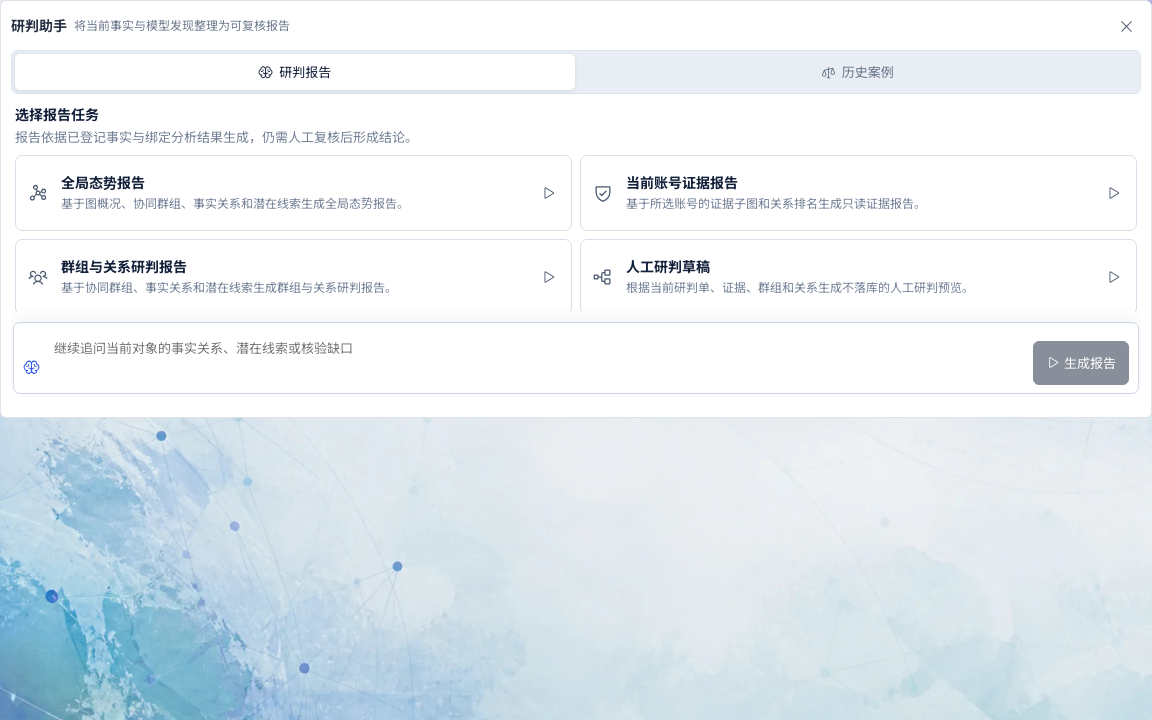
Scenario: governance report assistant › retrieves similar reviewed cases with provenance kept behind a disclosure
Click the tab "历史案例" at (857, 72), box [578,54,1137,90]
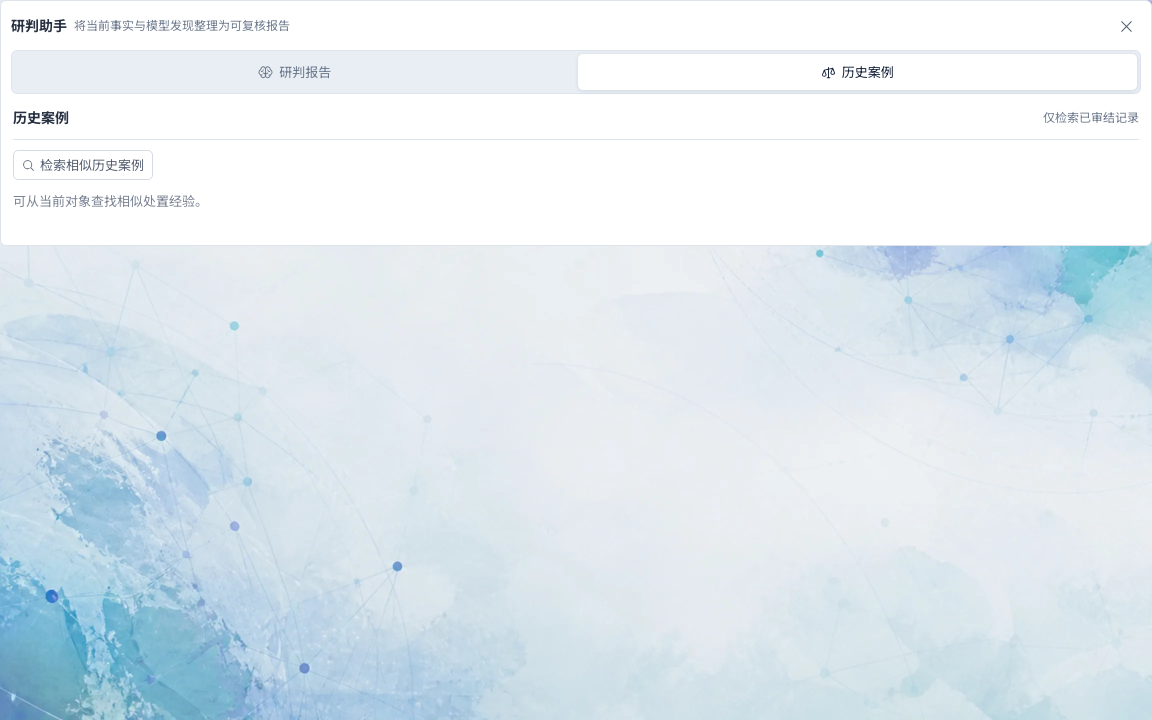
Click the button "检索相似历史案例" at (83, 165), box [13,150,153,180]
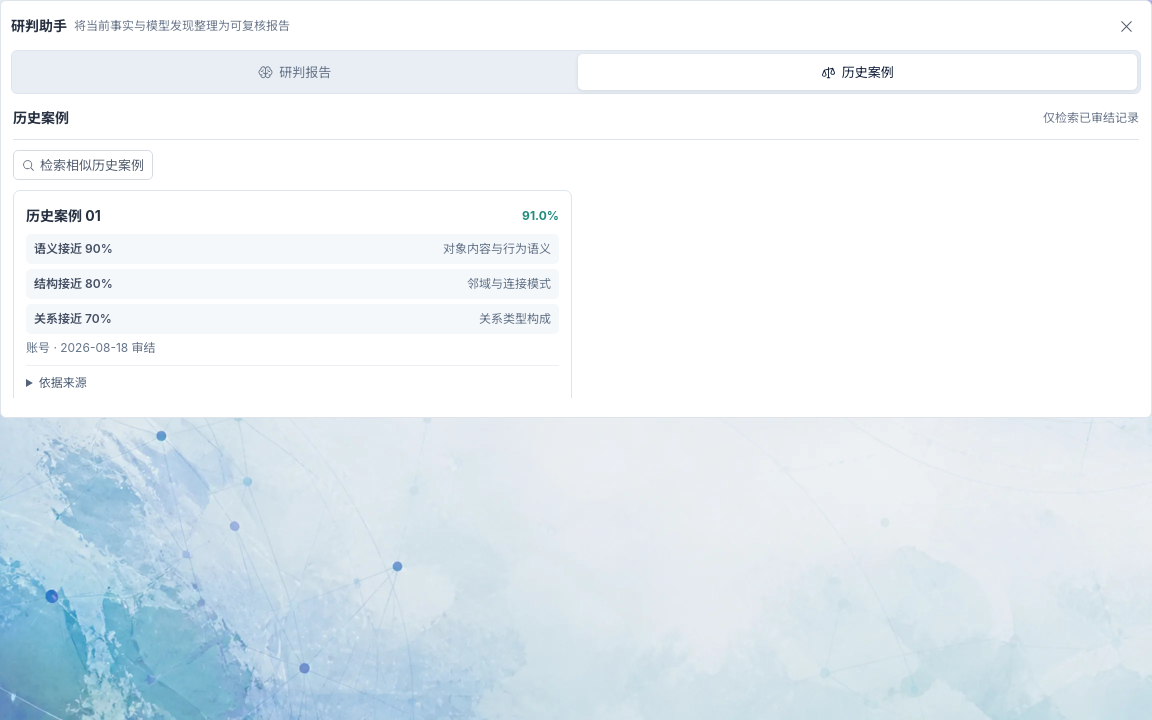
Result: the text "历史案例 01" is shown at [26,203,101,229]
Result: the text "语义接近 90%" is shown at [34,240,113,258]
Result: the heading "依据来源" is shown at [39,375,87,390]
